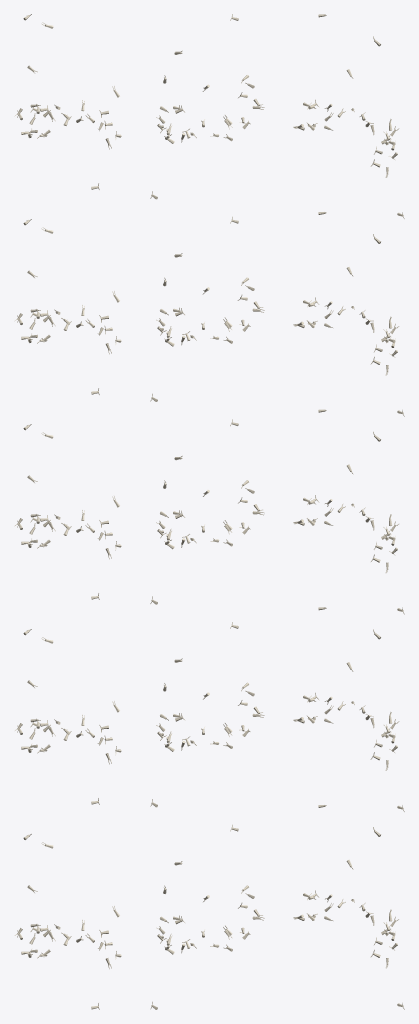
The model's file is Circle2Crowd5.obj.
The picture shows the model from 3 angles, left to right: view 1: azimuth 30°, elevation 25°; view 2: azimuth 150°, elevation 25°; view 3: azimuth 330°, elevation 25°; orthographic projection. The views are drawn at different scales.
Visible parts, largest first — view 1: Circle2Crowd5; view 2: Circle2Crowd5; view 3: Circle2Crowd5.
Boxes of the visible parts, x1,y1,x2,y2 form: Circle2Crowd5: (14,14,121,1009); Circle2Crowd5: (150,14,264,1009); Circle2Crowd5: (293,14,404,1009).
Size of the model in its own units: 30.74 by 323 by 24.35.
Materials: 1 (1 with a texture image).
